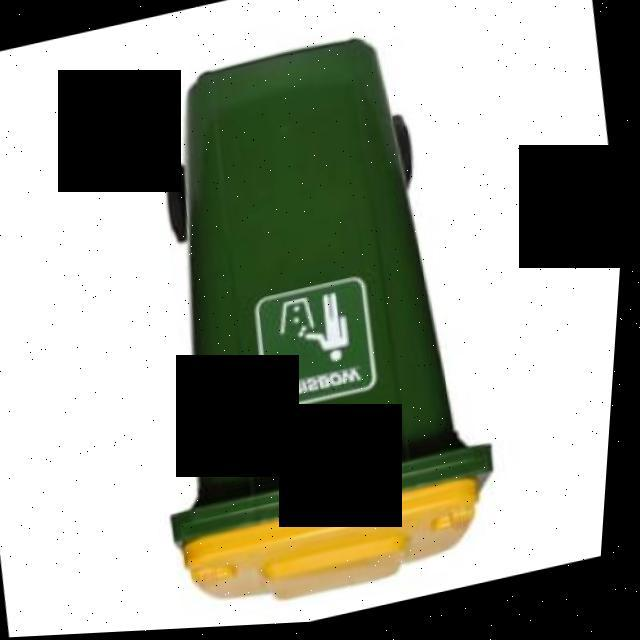bin: (70, 0, 559, 636)
